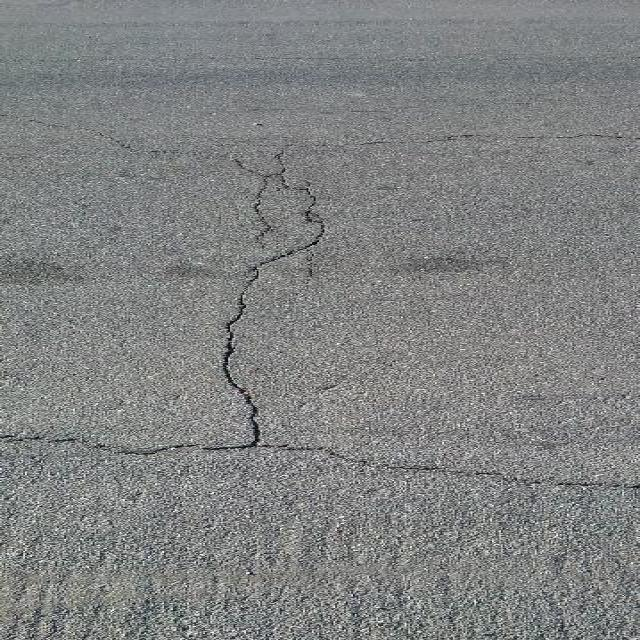Crack: (0, 423, 640, 499), (202, 160, 344, 450)
